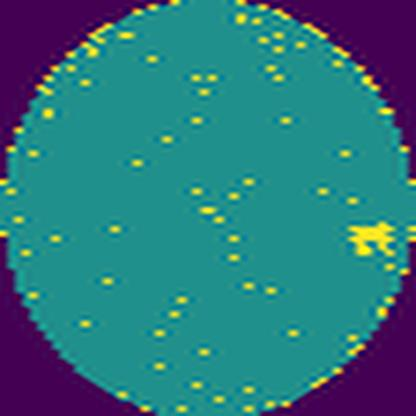Loc: (352, 221, 400, 262)
